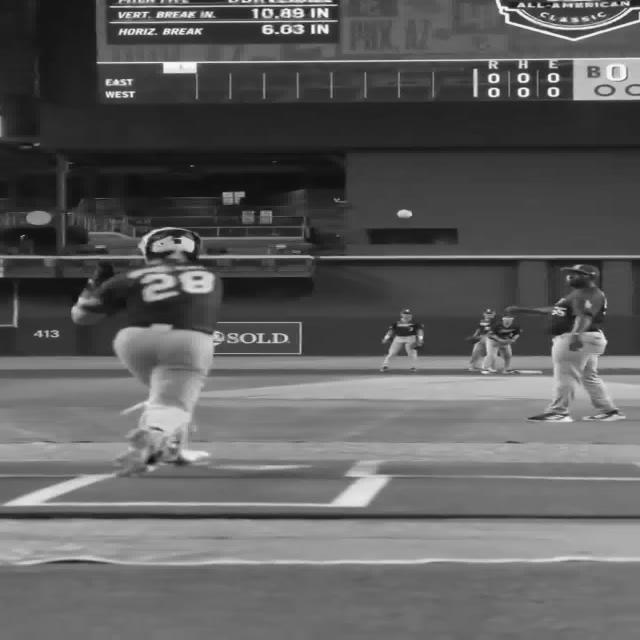base: (510, 369, 547, 375)
baseball: (396, 209, 412, 218)
shoe: (112, 427, 165, 476), (154, 449, 210, 466), (581, 410, 625, 421), (526, 412, 574, 422), (501, 369, 519, 374), (379, 366, 389, 372), (408, 367, 416, 373)
